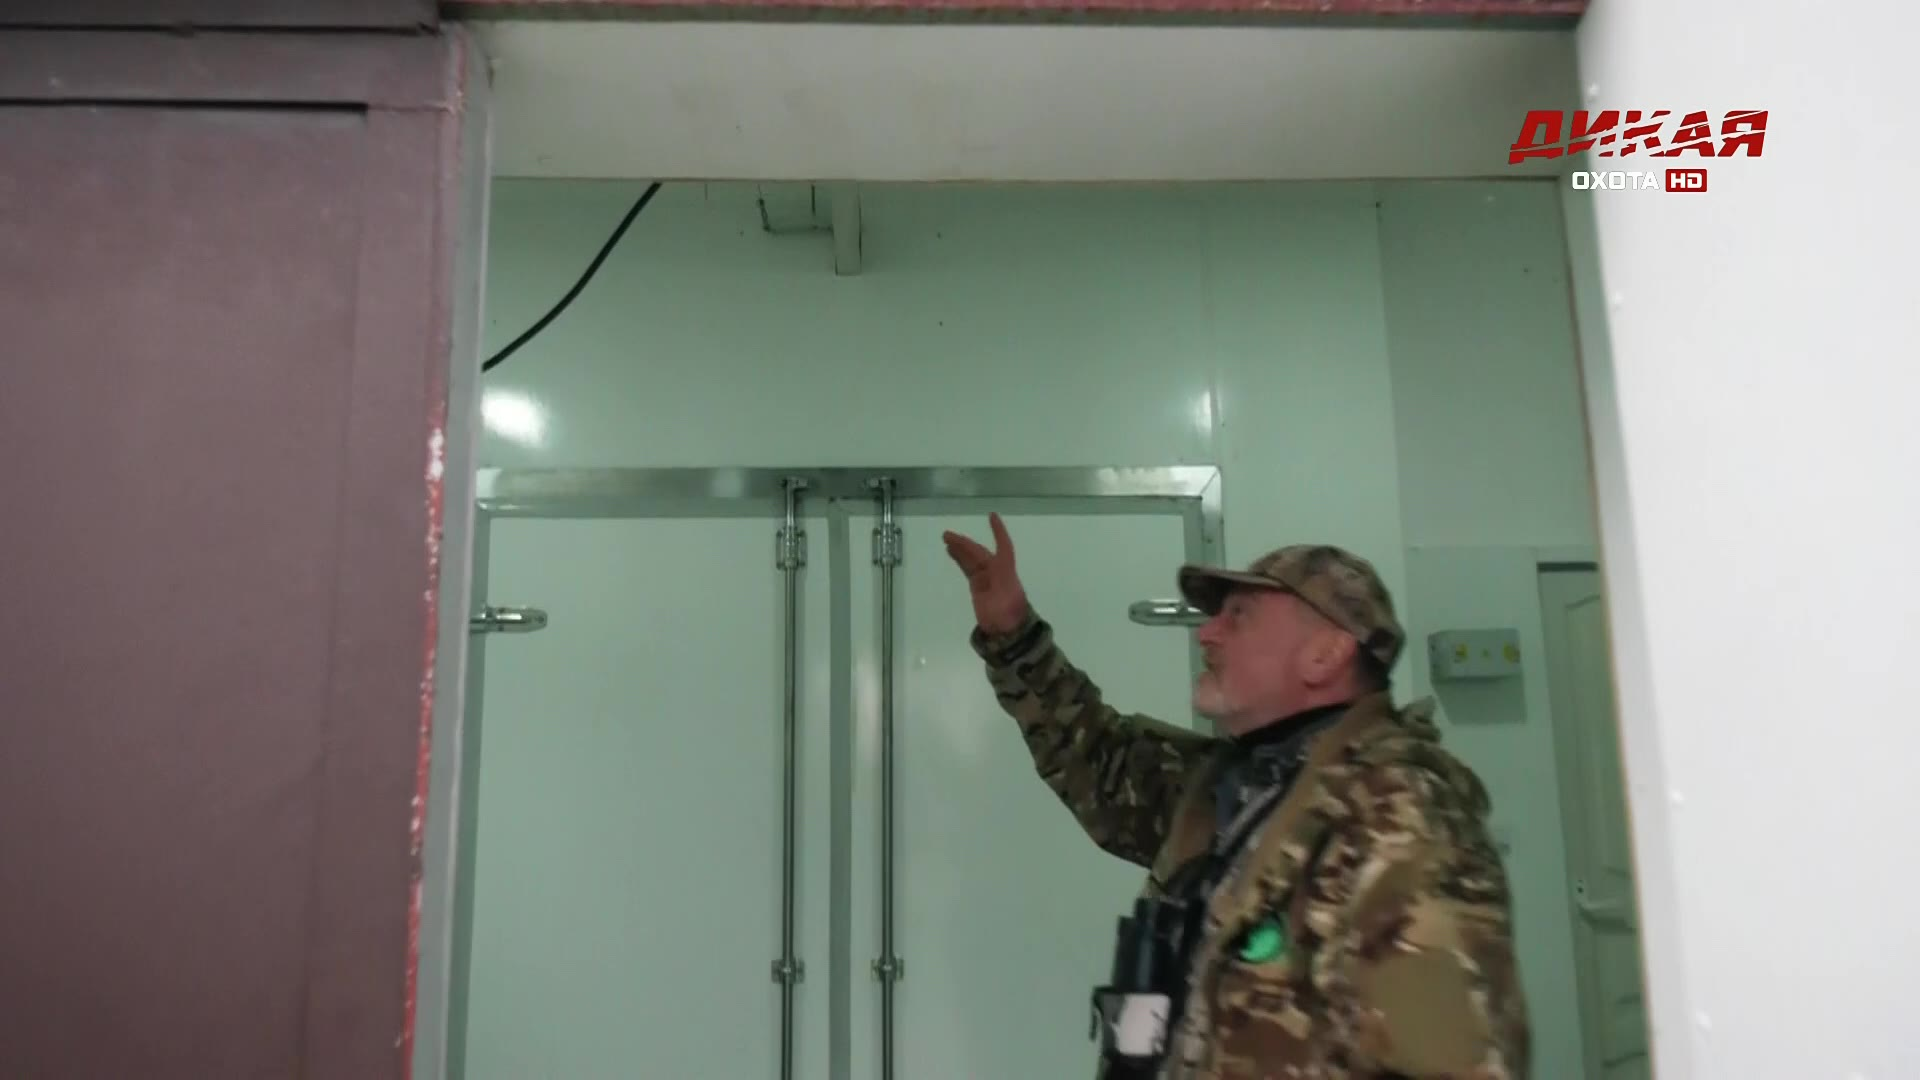Dikaya_Ohota_HD: (1505, 105, 1776, 199)
